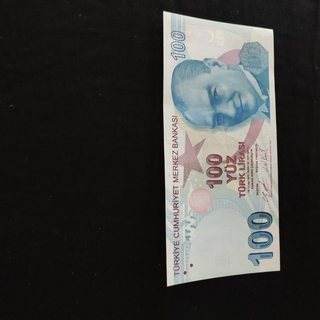100TLFront: (162, 9, 281, 287)
